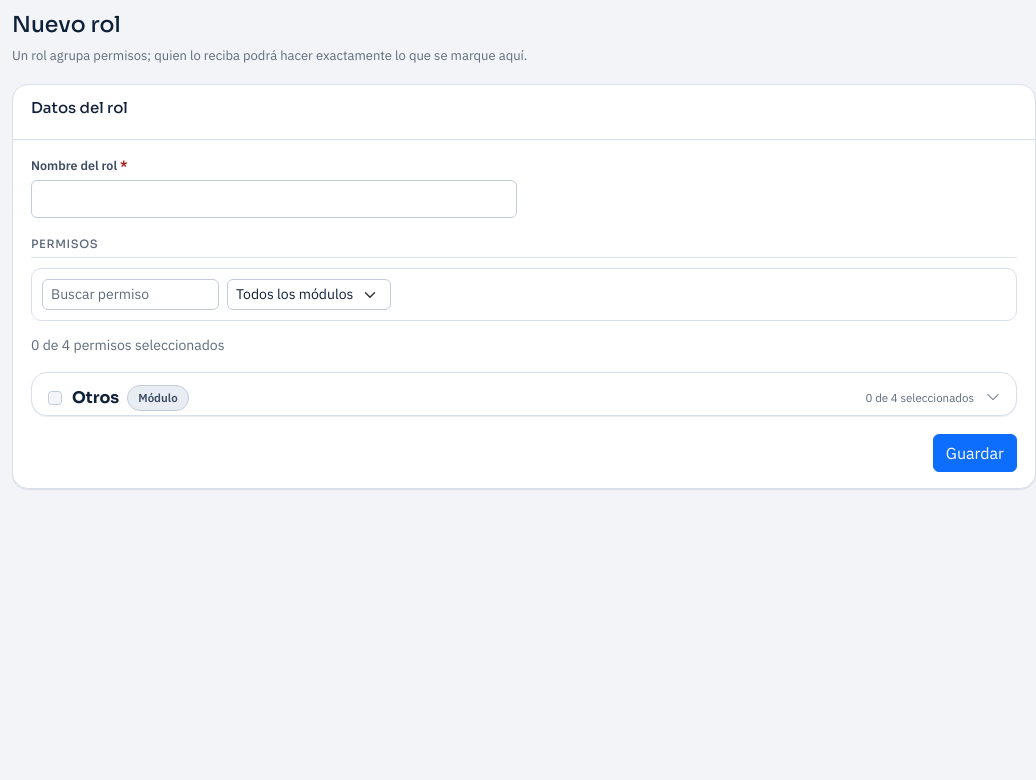
Test: El selector de permisos › el filtro de módulo deja ver uno solo
This screenshot has width=1036, height=780.
Select "Mantenimientos" in the dropdown named "Filtrar por bloque" at (309,295), box x1=227 y1=279 x2=391 y2=310
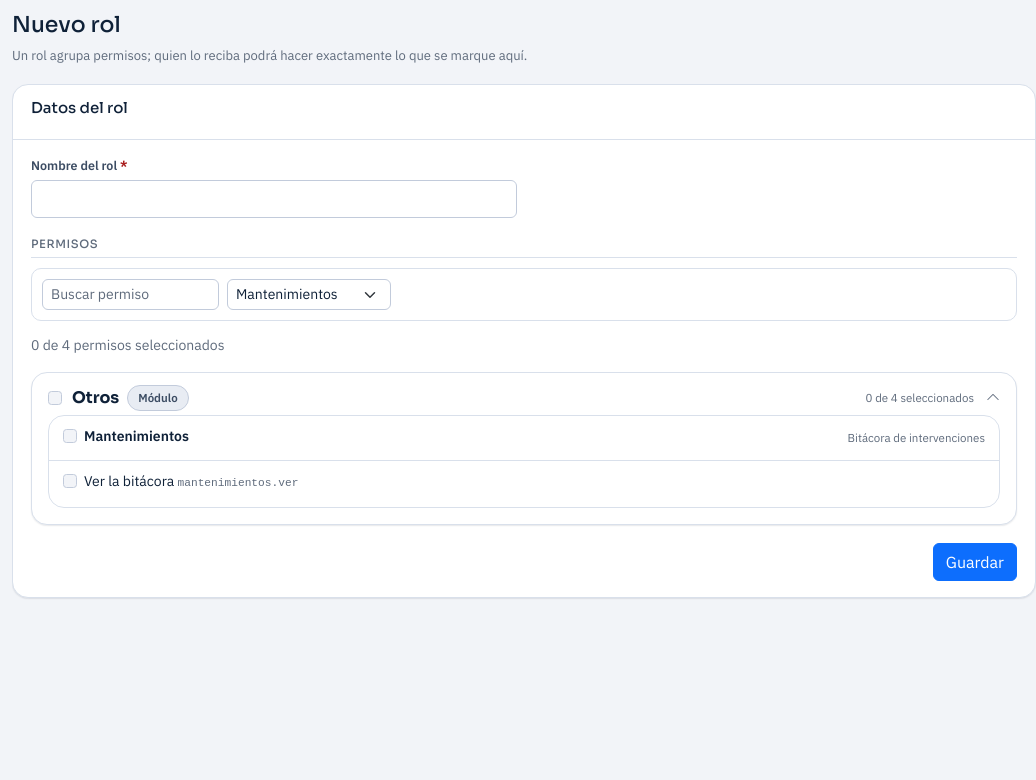
Result: the text "Ver la bitácora mantenimientos.ver" is shown at x1=84 y1=471 x2=298 y2=492
